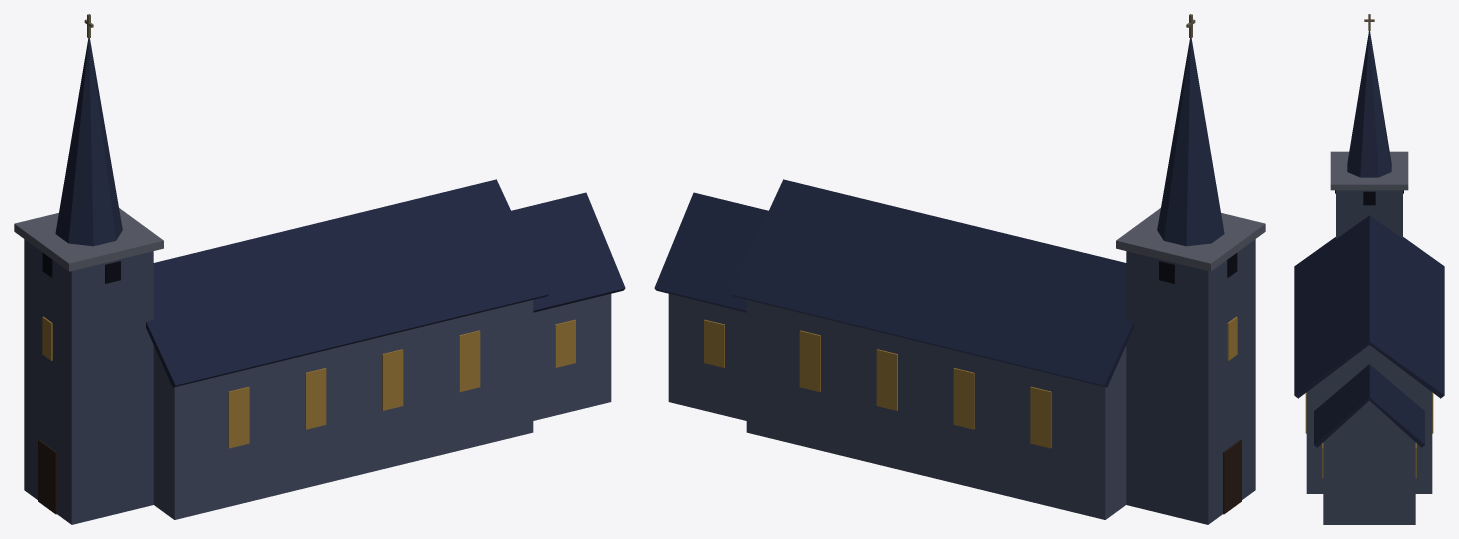
Rendered from church.glb.
The picture shows the model from 3 angles, left to right: view 1: azimuth 30°, elevation 25°; view 2: azimuth 150°, elevation 25°; view 3: azimuth 270°, elevation 25°; orthographic projection. The views are drawn at different scales.
Parts seen in each view (by area): view 1: Church; view 2: Church; view 3: Church.
Part boxes in pixels (x1=…): Church: x1=14, y1=14, x2=625, y2=524; Church: x1=654, y1=14, x2=1265, y2=524; Church: x1=1294, y1=14, x2=1444, y2=524.
Bounding box in the file's own units: 21.25 × 18 × 7.18.
